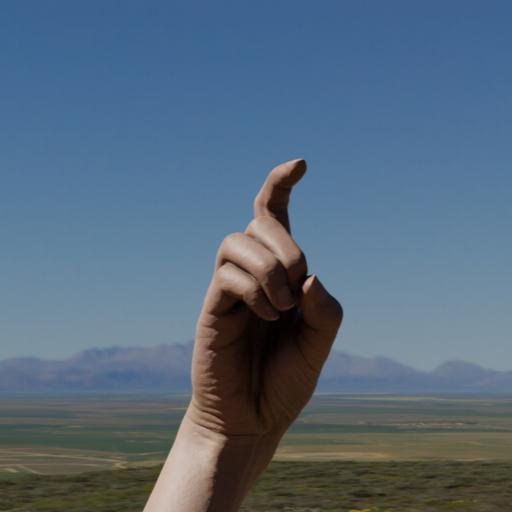X: (184, 143, 360, 461)
